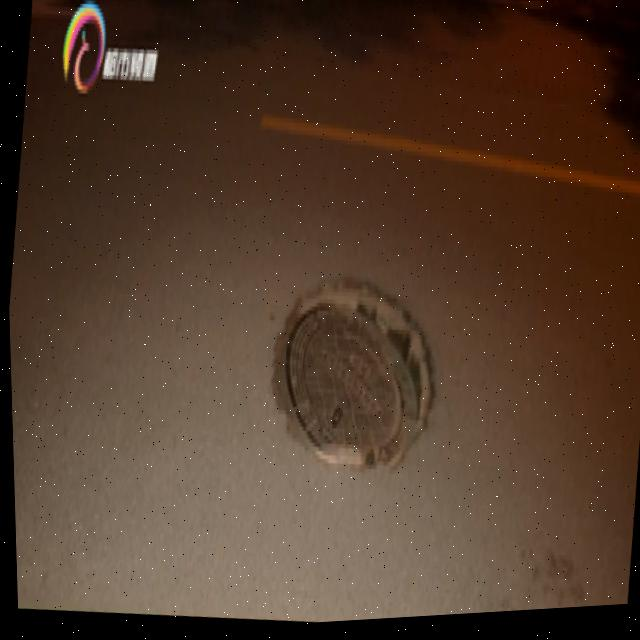manhole: (258, 273, 442, 487)
